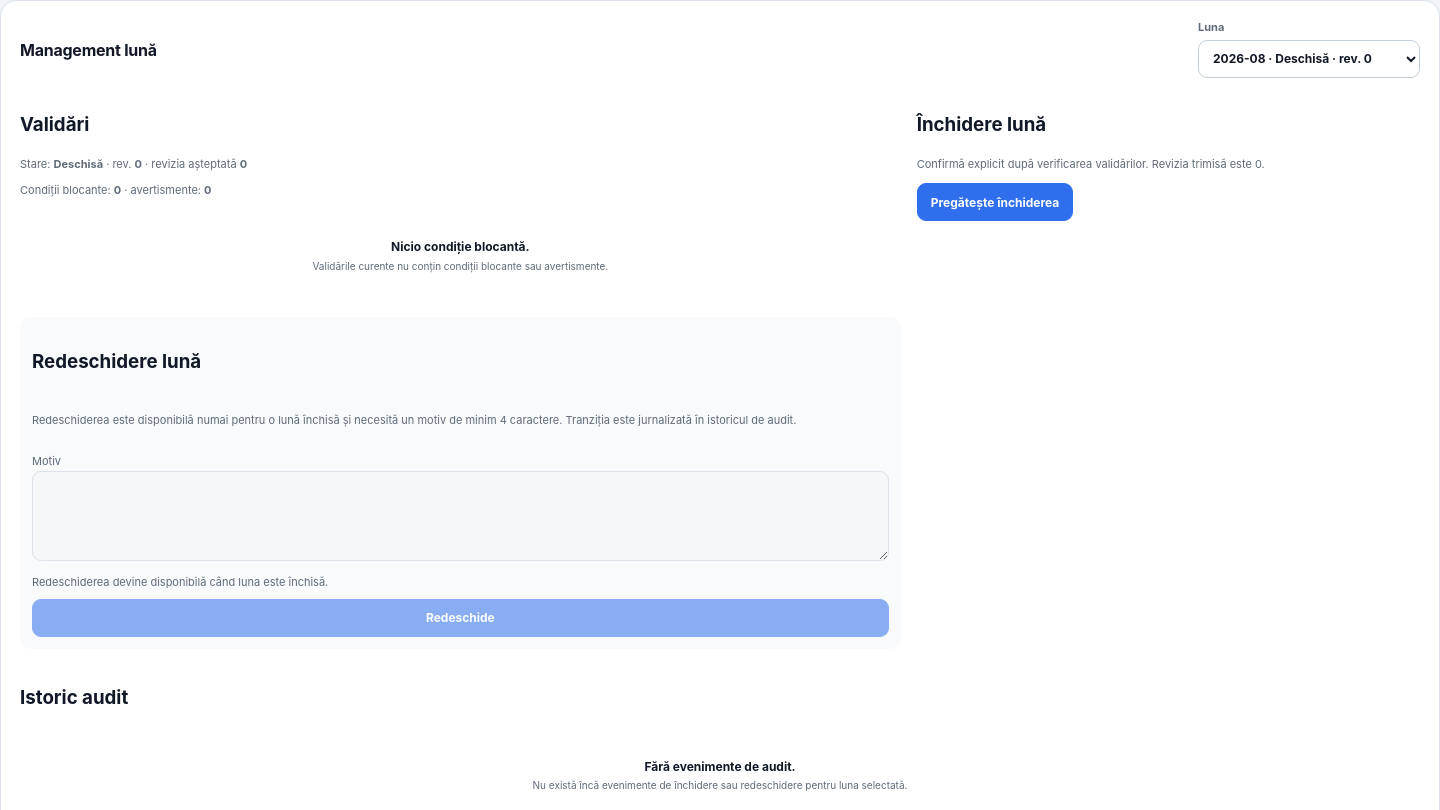
Test: Management month reopen reason validation › prepares, confirms, posts expected_revision, and refreshes validations/events
What coordinates should you click on to do the following:
click the button "Pregătește închiderea"
I would click on:
 (995, 202)
Its box is [917,184,1073,222].
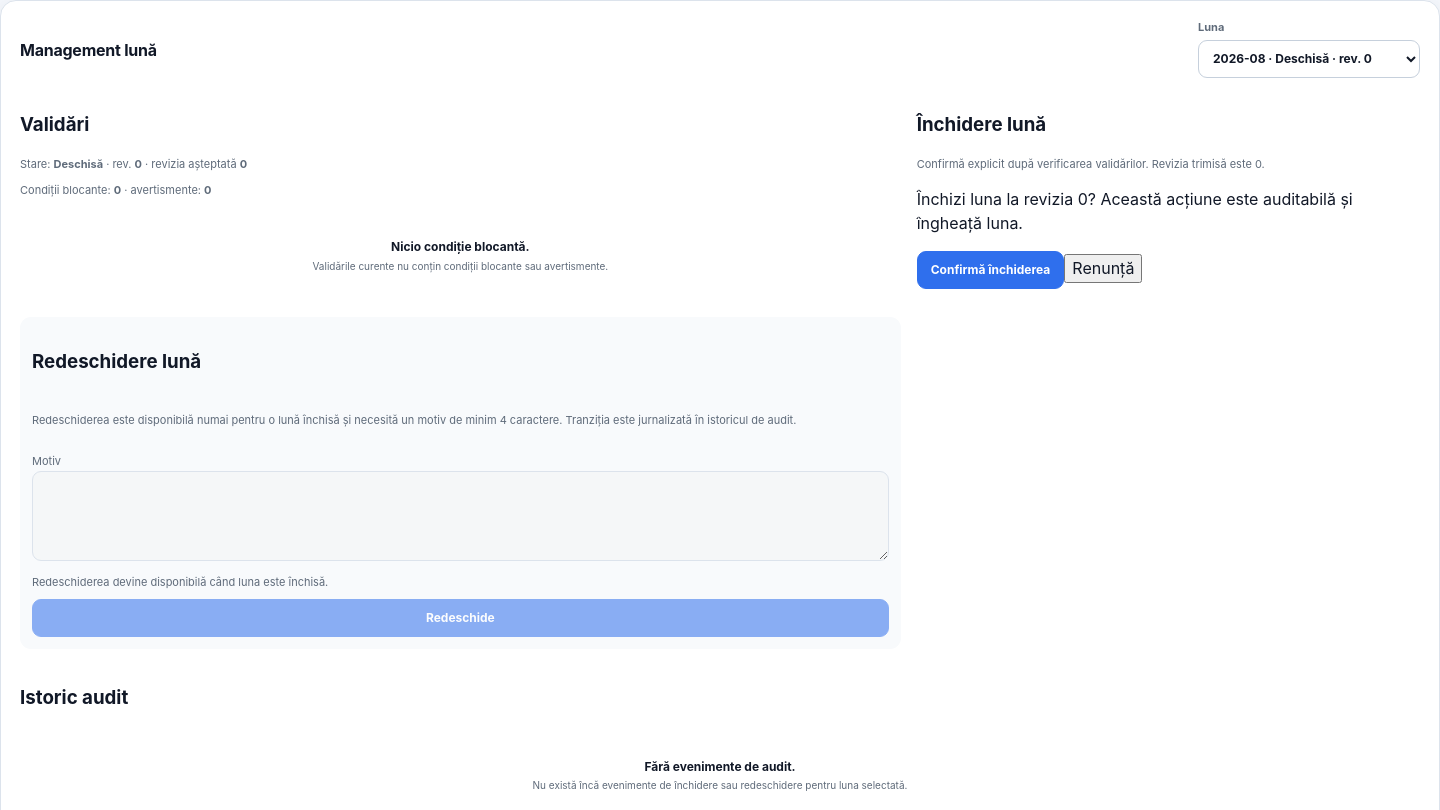
Result: the dialog is shown at [917,188,1420,289]
What coordinates should you click on to do the following:
click the button "Confirmă închiderea"
I would click on:
 (990, 270)
Its box is [917,251,1064,289].
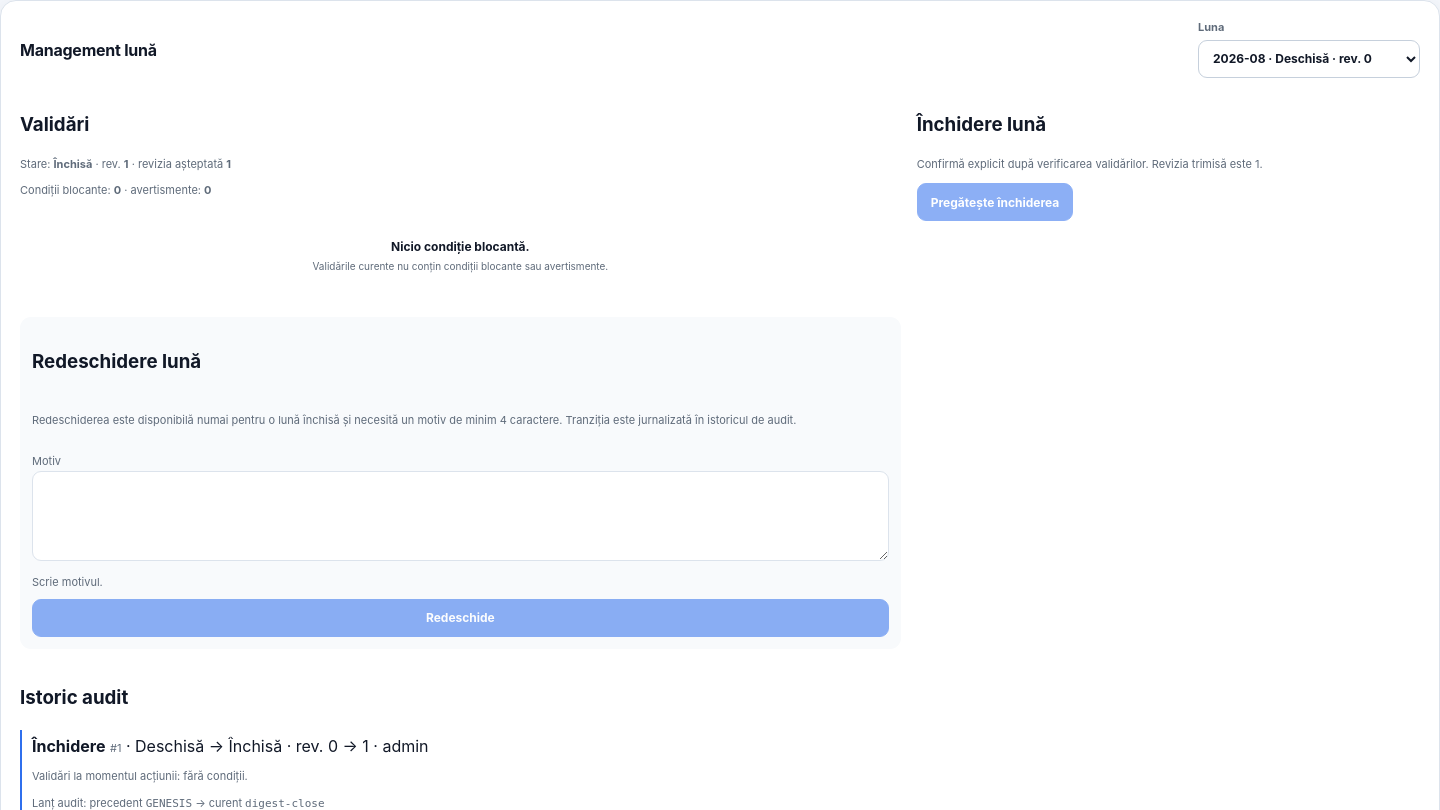
Expected: the text box is enabled, [32,471,889,561]
Result: the text "Închidere" is shown at [32,736,105,756]
Result: the text "Închisă" is shown at [54,156,92,170]
